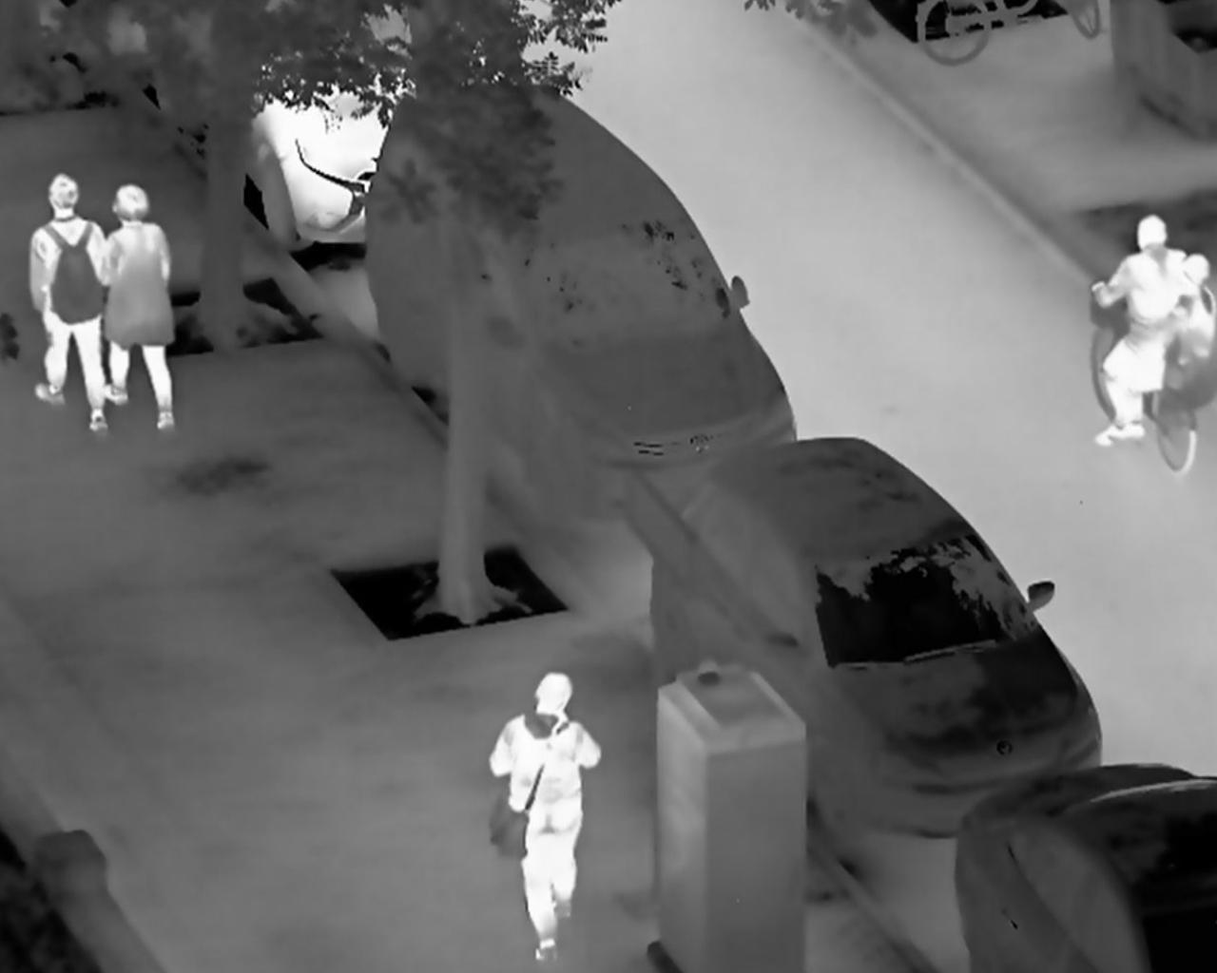person: (483, 670, 604, 963), (1091, 210, 1188, 448), (26, 170, 111, 435), (1113, 251, 1215, 444), (105, 178, 179, 429)
